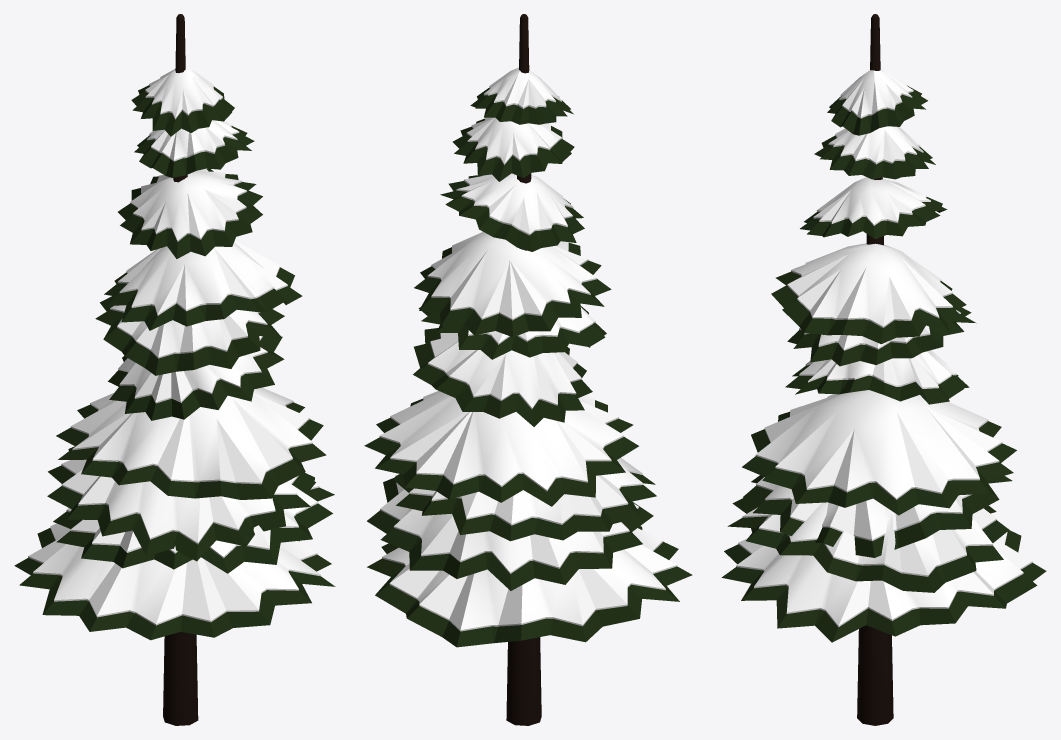
The model's file is s_tree_006.FBX.
3 renders of one model, left to right at view 1: azimuth 30°, elevation 25°; view 2: azimuth 150°, elevation 25°; view 3: azimuth 270°, elevation 25°, orthographic.
Visible parts, largest first — view 1: s_tree_leaves_006 (×2); view 2: s_tree_leaves_006 (×2); view 3: s_tree_leaves_006 (×2).
Boxes of the visible parts, x1,y1,x2,y2 form: s_tree_leaves_006 (×2): [14, 14, 335, 725]; s_tree_leaves_006 (×2): [364, 14, 692, 725]; s_tree_leaves_006 (×2): [721, 14, 1046, 725].
Bounding box in the file's own units: 1.8 × 4.26 × 1.78.
